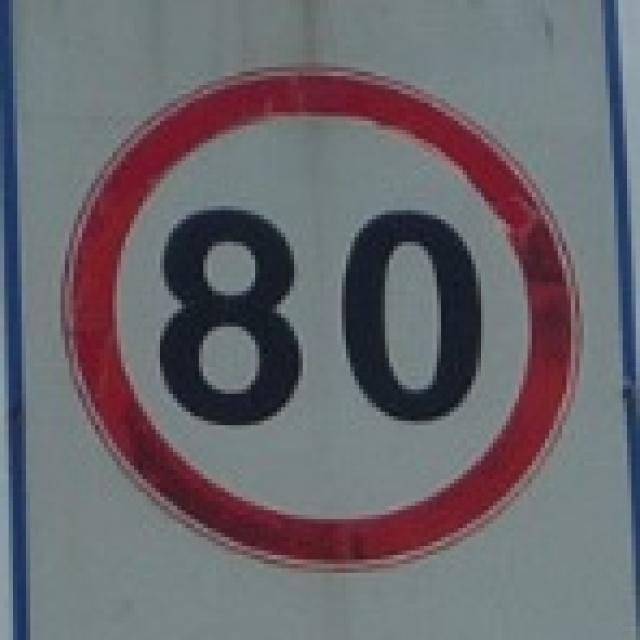Speed Limit -80-: (154, 205, 480, 437)
